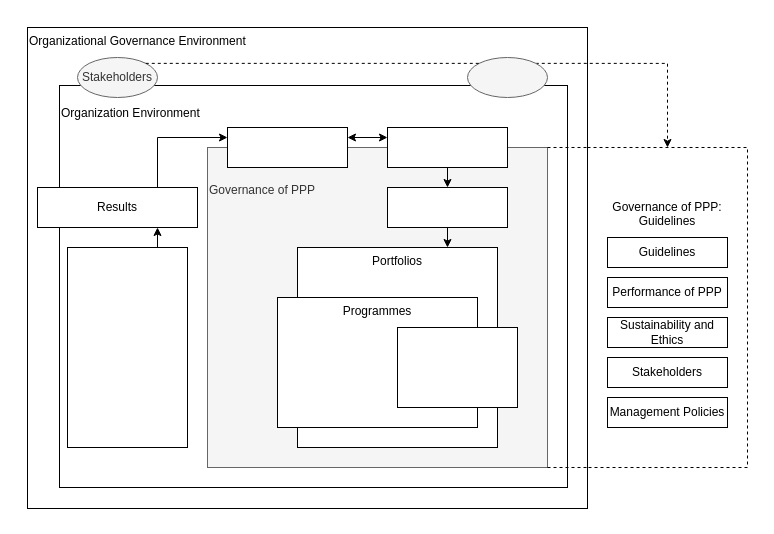
Some shapes in this 774 by 534 pixel diagram are drawn without their labels. The shapes that lost their labels are listed below. From the top down, each one's centre as x and y in pixels, then its label:
At (507,77): "Governing Body".
At (287,147): "Strategy".
At (447,147): "Opportunities & Threats".
At (447,207): "Requirements/ Business Cases".
At (127,347): "Operations".
At (457,367): "Projects".
